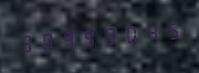five: (157, 15, 176, 46)
four: (137, 16, 156, 47)
nine: (77, 21, 96, 53), (57, 23, 76, 54), (97, 20, 116, 51)
three: (17, 27, 36, 58)
zero: (37, 25, 56, 56), (117, 18, 136, 49)
